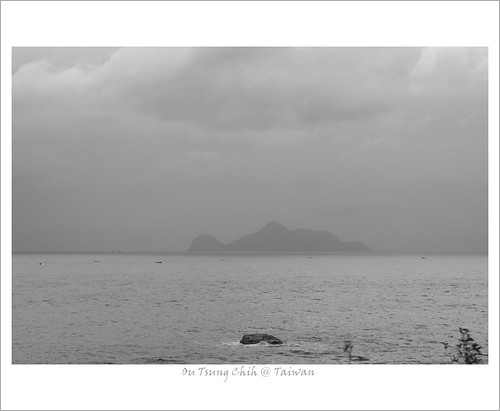turtleIslandLeft: (190, 220, 375, 256)
